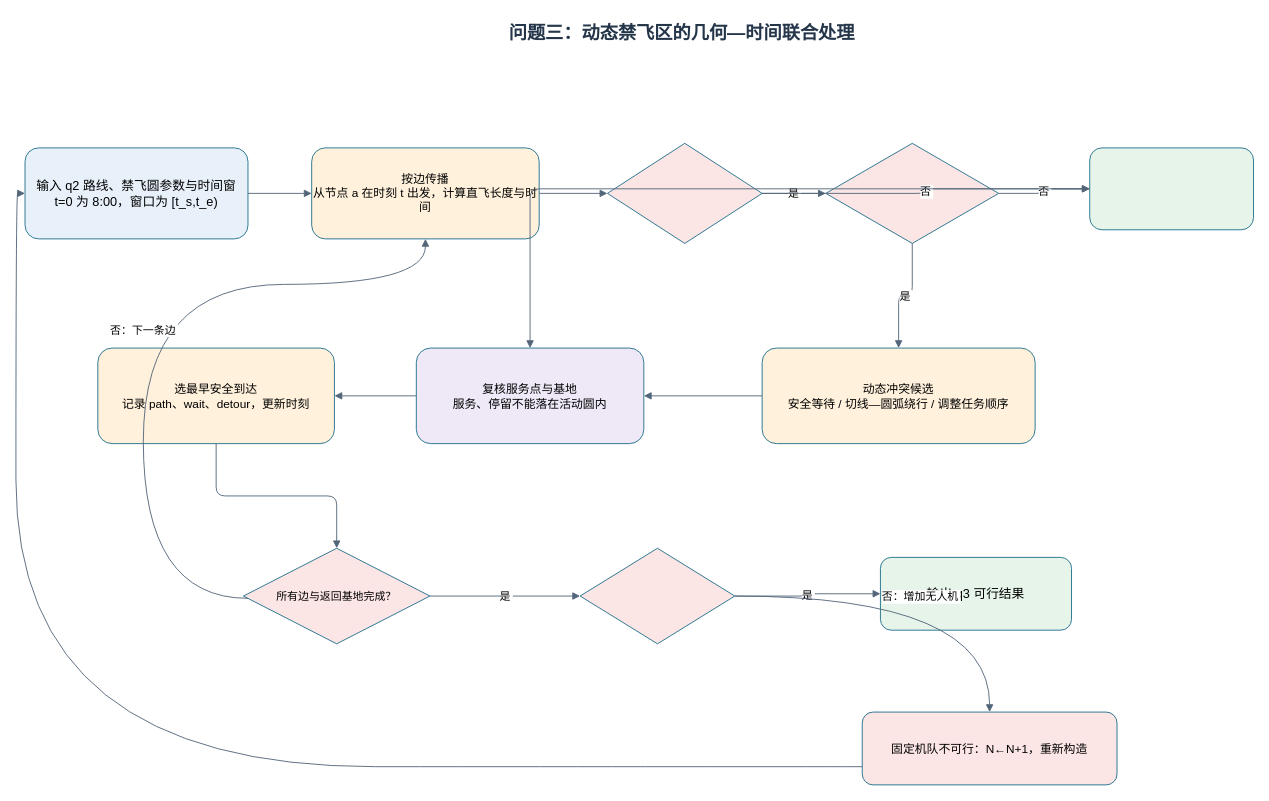
Some shapes in this 1269 by 801 pixel diagram are drawn without their labels. Each missing label, with the centre of its shape:
[t_in,t_out] 与 [t_s,t_e) 重叠？: (912,192)
T_k≤9 h？: (657,595)
直飞并传播: (1171,188)
线段与圆 几何相交？: (684,192)
